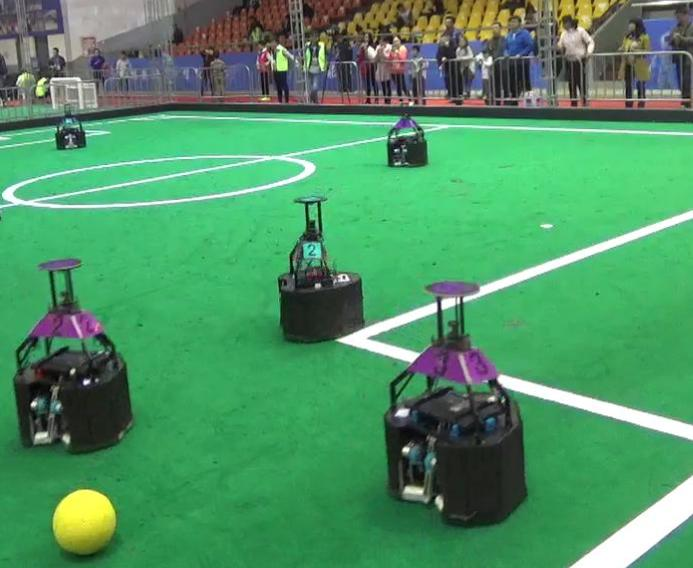robot: (383, 270, 531, 532), (10, 255, 137, 453), (272, 187, 374, 344), (380, 98, 435, 171), (51, 101, 89, 152)
